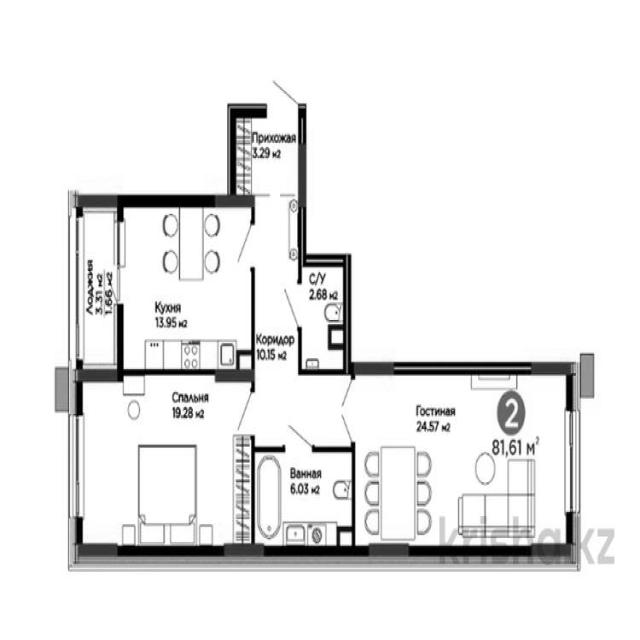balcony: (74, 200, 119, 372)
bathroom: (252, 447, 354, 544), (300, 259, 346, 371)
hallway: (253, 200, 299, 447), (230, 112, 304, 196)
kitchen: (119, 199, 251, 372)
living_room: (354, 368, 578, 550), (75, 377, 252, 561)
